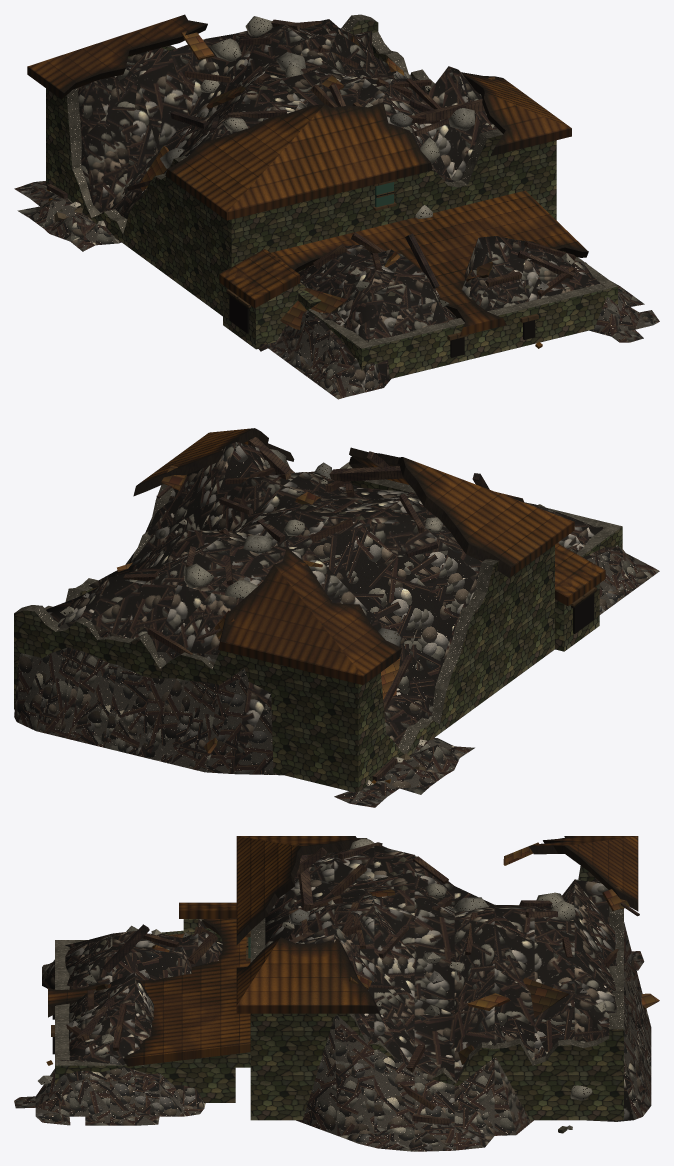
Rendered from CreHouse04a.glb.
3 views of the same model, one above another, from view 1: azimuth 30°, elevation 25°; view 2: azimuth 150°, elevation 25°; view 3: azimuth 270°, elevation 25° (orthographic). The views are drawn at different scales.
Visible parts, largest first — view 1: CreHouse04a_rm; view 2: CreHouse04a_rm; view 3: CreHouse04a_rm.
Part boxes in pixels (x1,y1,x2,y2): CreHouse04a_rm: (14,14,659,399); CreHouse04a_rm: (14,428,659,807); CreHouse04a_rm: (14,836,659,1151).
Bounding box in the file's own units: 12.13 × 4.98 × 15.74.
Materials: 31 (29 with a texture image).
